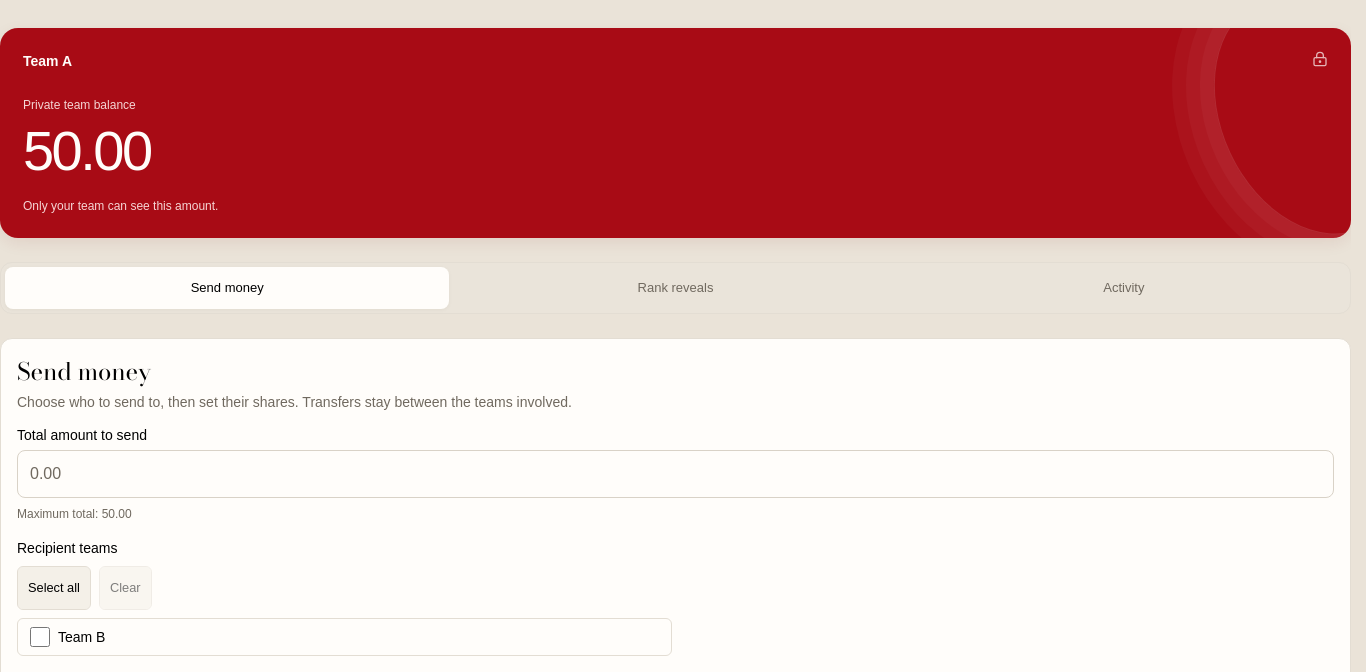
Test case: player session lifetime › keeps transfer recipients and amount when Wallet unmounts and remounts its sections
The image size is (1366, 672).
Type "12.50" into the field labelled "Total amount to send".
click(676, 474); type("12.50")  # box [17,450,1334,498]
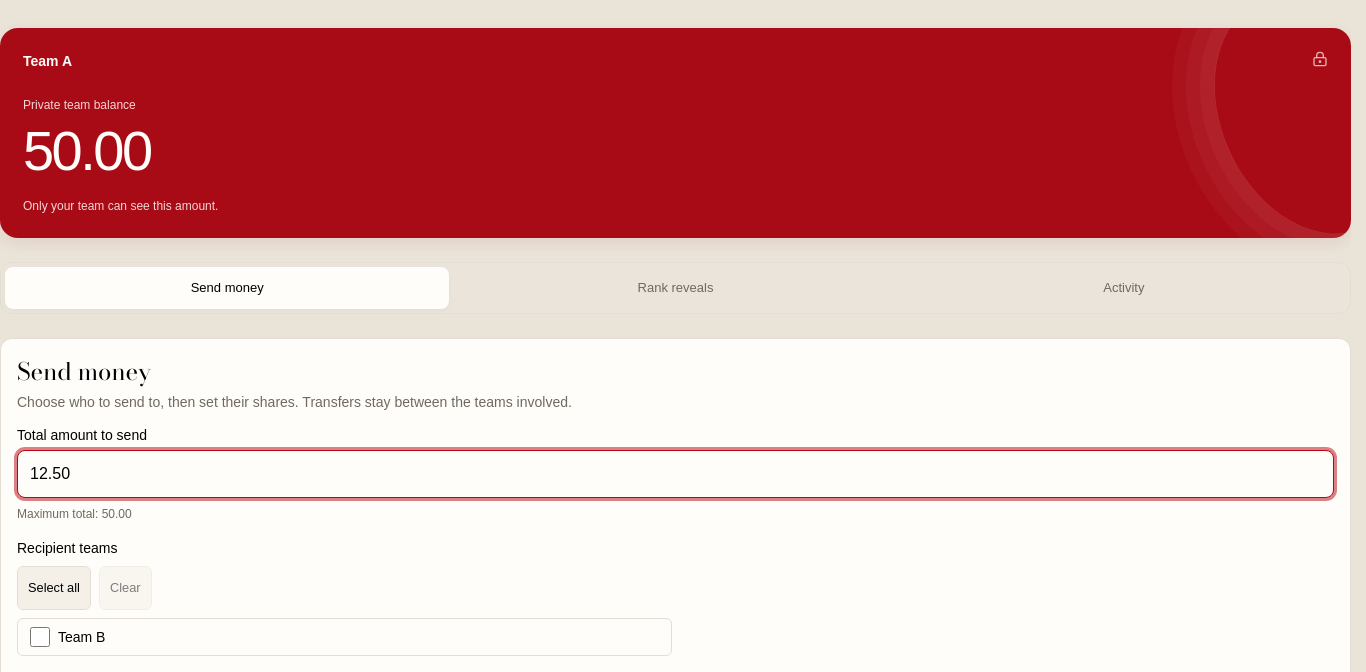
Click the checkbox labelled "Team B".
click(40, 637)  # box [30,627,50,647]
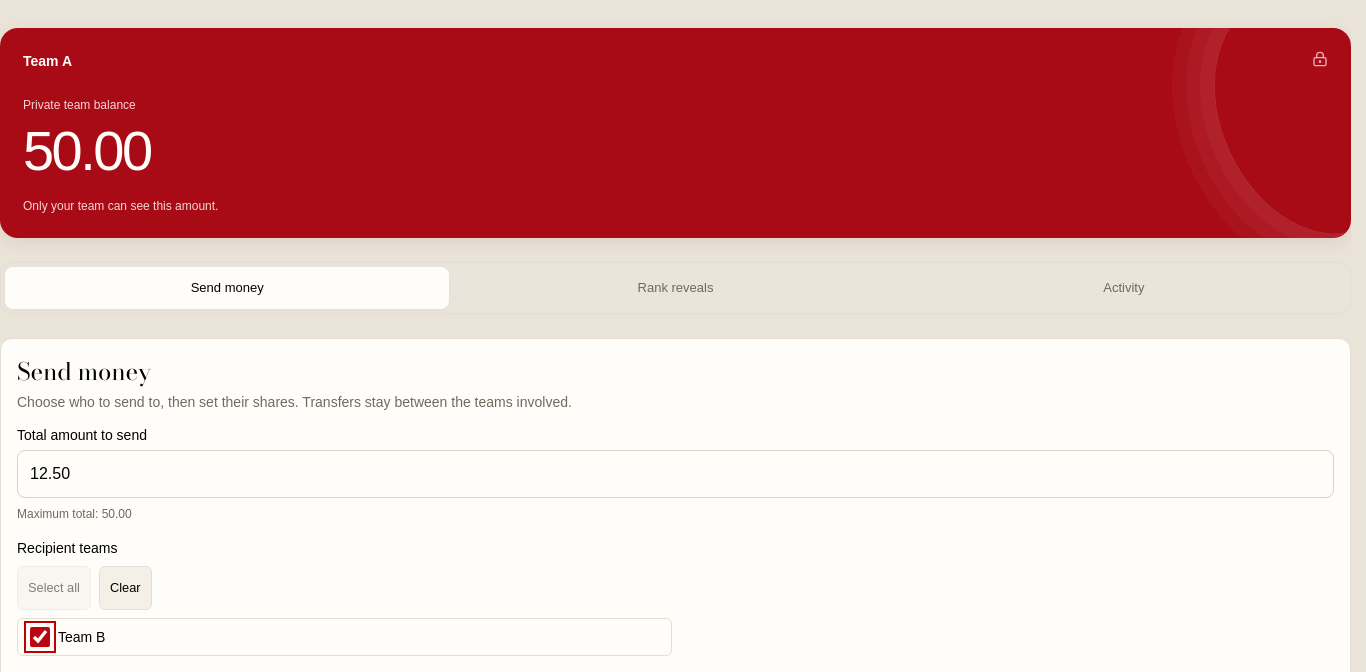
Click the button "Activity".
click(1124, 288)  # box [902,267,1346,309]
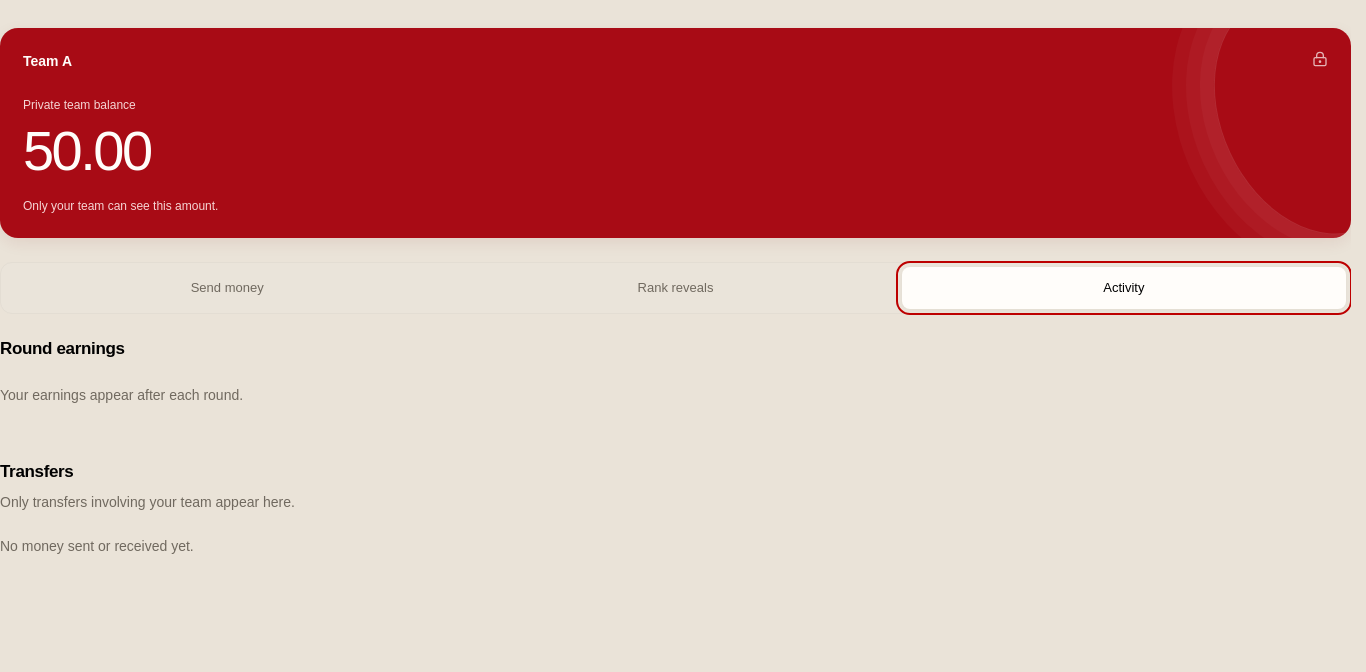
Expected: the heading "Round earnings" is shown, [0,339,125,358]
Click the button "Send money".
click(227, 288)  # box [5,267,449,309]
(page scrolled)
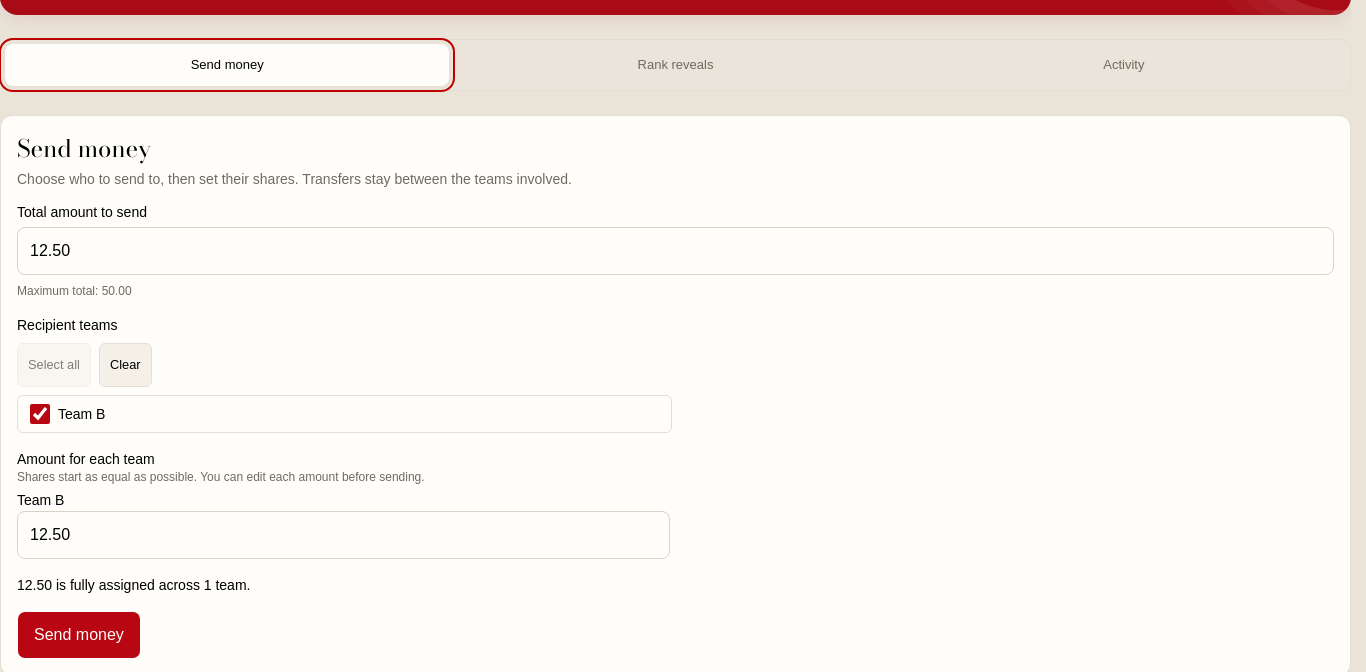
Expected: the field labelled "Total amount to send" holds "12.50", [17,227,1334,275]
Expected: the checkbox labelled "Team B" is checked, [30,404,50,424]
Expected: the field with id "money-transfer-share-team-b" holds "12.50", [17,511,670,559]
